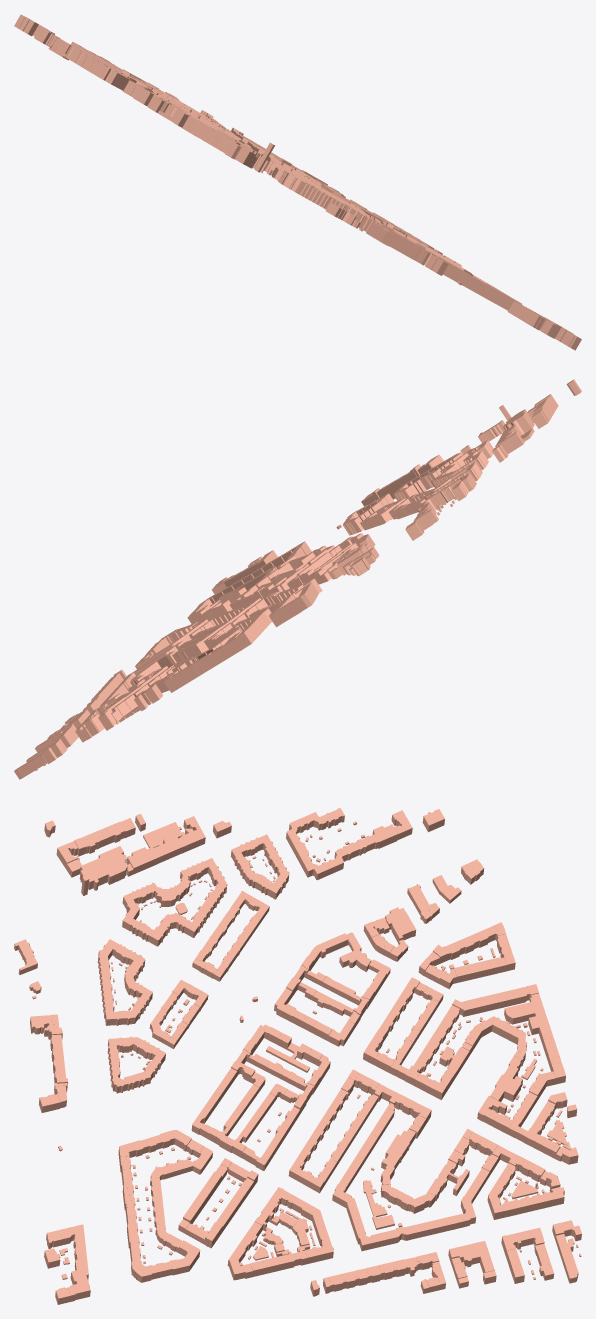
The picture shows the model from 3 angles, top to bottom: view 1: azimuth 30°, elevation 25°; view 2: azimuth 150°, elevation 25°; view 3: azimuth 270°, elevation 25°; orthographic projection. The views are drawn at different scales.
Size of the model in its own units: 527 by 389 by 643.
